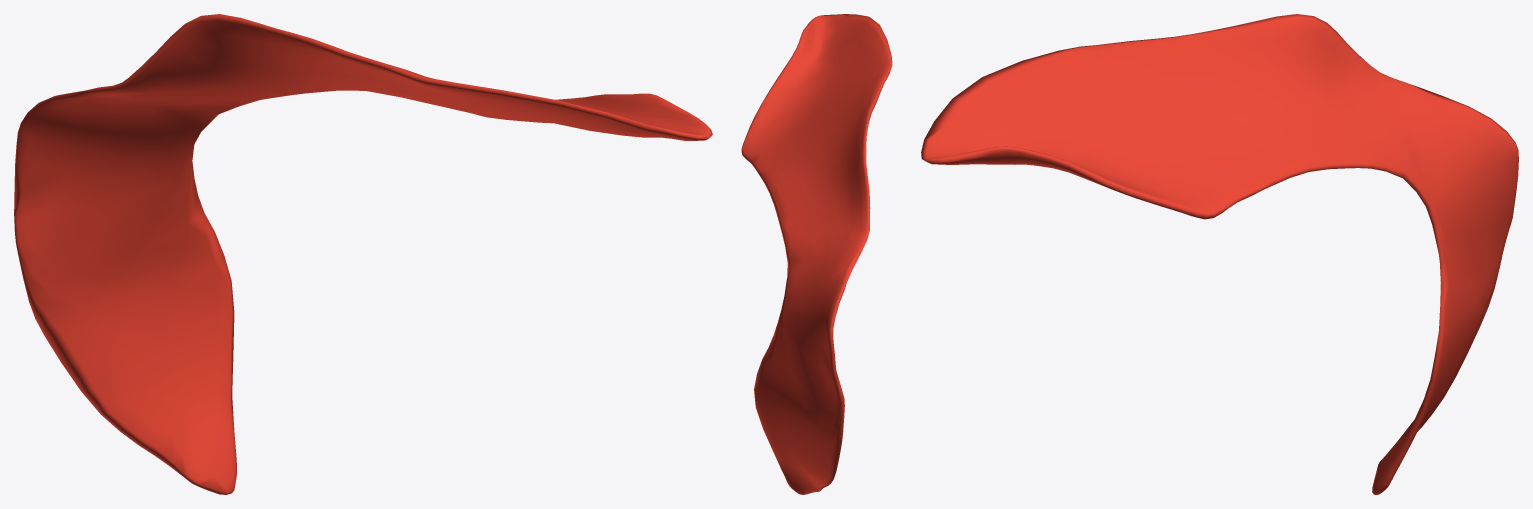
File: Piriformis_muscle_on_pelvic_surface_of_sacrum.l_Generated_Mesh_.glb
The picture shows the model from 3 angles, left to right: view 1: azimuth 30°, elevation 25°; view 2: azimuth 150°, elevation 25°; view 3: azimuth 270°, elevation 25°; orthographic projection. The views are drawn at different scales.
Visible parts, largest first — view 1: Piriformis_muscle_on_pelvic_surface_of_sacrum.l_Generated_Me; view 2: Piriformis_muscle_on_pelvic_surface_of_sacrum.l_Generated_Me; view 3: Piriformis_muscle_on_pelvic_surface_of_sacrum.l_Generated_Me.
Boxes of the visible parts, x1=… form: Piriformis_muscle_on_pelvic_surface_of_sacrum.l_Generated_Me: x1=14, y1=14, x2=712, y2=494; Piriformis_muscle_on_pelvic_surface_of_sacrum.l_Generated_Me: x1=741, y1=14, x2=892, y2=494; Piriformis_muscle_on_pelvic_surface_of_sacrum.l_Generated_Me: x1=921, y1=14, x2=1518, y2=494.
Bounding box in the file's own units: 0.0228 × 0.0316 × 0.0369.
